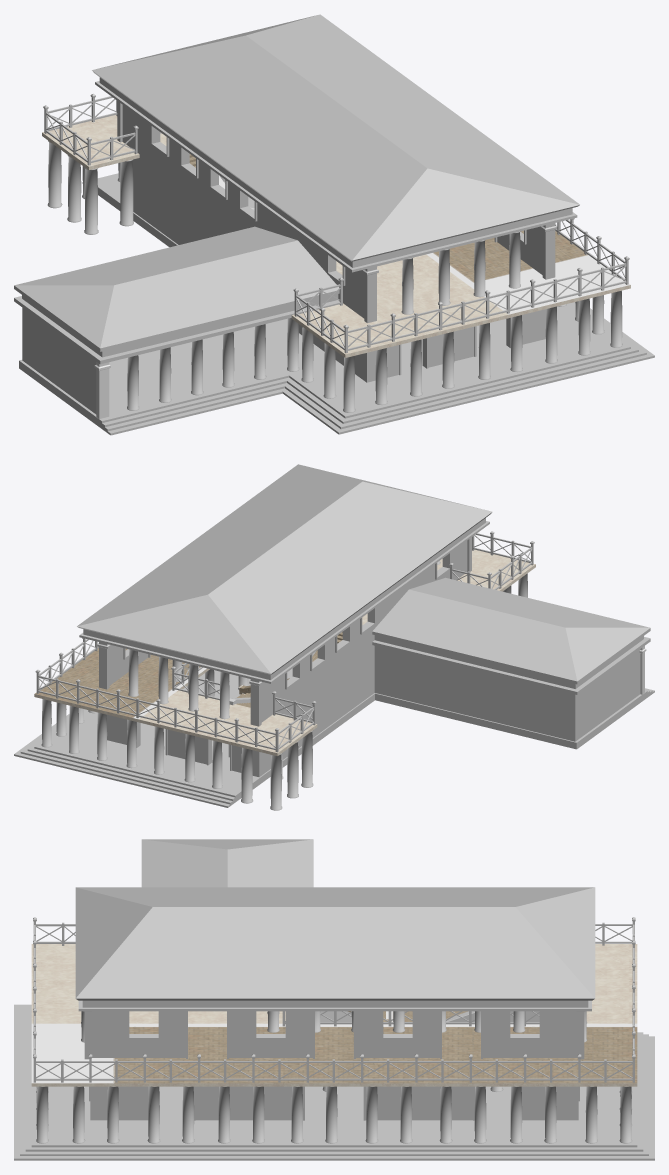
The model's file is budynek011.fbx.
3 renders of one model, top to bottom at view 1: azimuth 30°, elevation 25°; view 2: azimuth 150°, elevation 25°; view 3: azimuth 270°, elevation 25°, orthographic. The views are drawn at different scales.
Parts seen in each view (by area): view 1: dach gora, Plane.057, dach dol, sciany gora.001, podloga gora, Circle.053, Circle.050, Circle.052, Circle.051, sciany gora, sciany gora.003, sciany gora.002 (+27 smaller); view 2: dach gora, sciany gora.001, dach dol, Plane.057, podloga gora, Circle.049, Circle.050, Circle.051, Circle.052, sciany gora.005, sciany gora.004, Circle.047; view 3: dach gora, Plane.057, podloga gora, sciany gora.001, dach dol, Circle.041, Circle.061, Circle.060, Circle.055, Circle.067, Circle.066, Circle.057 (+22 smaller).
Part boxes in pixels (left/top/right/bottom): dach gora: left=92, top=14, right=579, bottom=272; Plane.057: left=19, top=173, right=654, bottom=435; dach dol: left=14, top=226, right=339, bottom=364; sciany gora.001: left=22, top=105, right=546, bottom=414; podloga gora: left=42, top=115, right=630, bottom=357; Circle.053: left=119, top=159, right=133, bottom=226; Circle.050: left=47, top=140, right=62, bottom=208; Circle.052: left=84, top=167, right=98, bottom=234; Circle.051: left=67, top=155, right=81, bottom=222; sciany gora: left=94, top=362, right=110, bottom=418; sciany gora.003: left=541, top=223, right=557, bottom=279; sciany gora.002: left=362, top=266, right=378, bottom=323; dach gora: left=77, top=464, right=492, bottom=683; sciany gora.001: left=106, top=541, right=640, bottom=777; dach dol: left=372, top=577, right=650, bottom=694; Plane.057: left=14, top=668, right=654, bottom=807; podloga gora: left=34, top=549, right=535, bottom=756; Circle.049: left=241, top=747, right=253, bottom=803; Circle.050: left=270, top=753, right=282, bottom=810; Circle.051: left=287, top=741, right=298, bottom=798; Circle.052: left=301, top=730, right=313, bottom=787; sciany gora.005: left=249, top=679, right=262, bottom=726; sciany gora.004: left=97, top=642, right=111, bottom=689; Circle.047: left=212, top=740, right=222, bottom=788; dach gora: left=75, top=887, right=595, bottom=1011; Plane.057: left=14, top=1004, right=654, bottom=1160; podloga gora: left=31, top=944, right=637, bottom=1086; sciany gora.001: left=89, top=1011, right=579, bottom=1120; dach dol: left=141, top=839, right=313, bottom=887; Circle.041: left=36, top=1086, right=48, bottom=1143; Circle.061: left=182, top=1086, right=194, bottom=1143; Circle.060: left=474, top=1086, right=486, bottom=1143; Circle.055: left=510, top=1086, right=522, bottom=1143; Circle.067: left=291, top=1086, right=303, bottom=1143; Circle.066: left=218, top=1086, right=230, bottom=1143; Circle.057: left=400, top=1086, right=412, bottom=1143.
Size of the model in its own units: 26.94 by 9.29 by 30.51.
